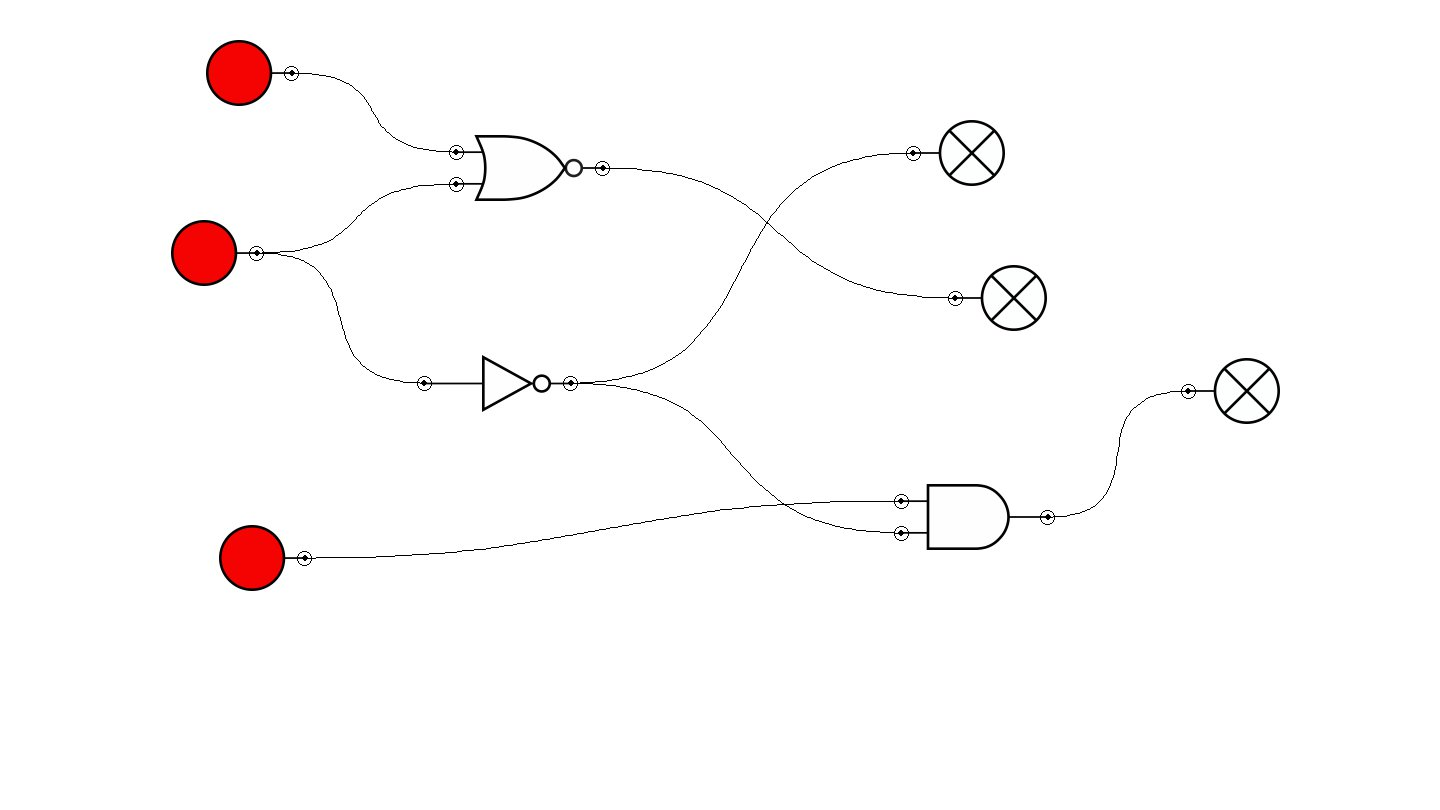and: (894, 484, 1055, 550)
bulb: (948, 265, 1047, 331), (1181, 358, 1280, 424), (906, 120, 1005, 186)
nor: (449, 135, 610, 201)
not: (417, 355, 578, 412)
switch_False: (171, 220, 264, 286), (206, 40, 299, 106), (219, 525, 312, 591)
